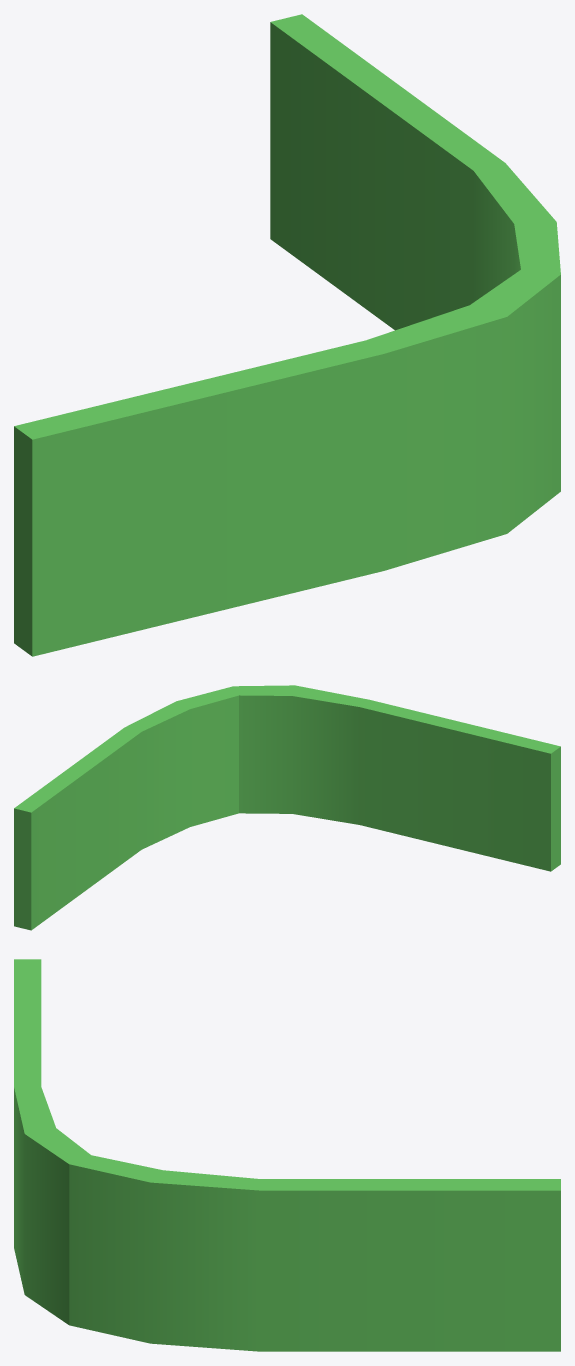
Rendered from Gen_Handrail_Cor_Rnd_COL.fbx.
The picture shows the model from 3 angles, top to bottom: view 1: azimuth 30°, elevation 25°; view 2: azimuth 150°, elevation 25°; view 3: azimuth 270°, elevation 25°; orthographic projection. The views are drawn at different scales.
Parts seen in each view (by area): view 1: Gen_Handrail_Cor_Rnd_COL; view 2: Gen_Handrail_Cor_Rnd_COL; view 3: Gen_Handrail_Cor_Rnd_COL.
Boxes of the visible parts, <box> form: Gen_Handrail_Cor_Rnd_COL: <box>14,14,560,656</box>; Gen_Handrail_Cor_Rnd_COL: <box>14,685,560,930</box>; Gen_Handrail_Cor_Rnd_COL: <box>14,959,560,1351</box>.
Bounding box in the file's own units: 300 × 97.5 × 300.
